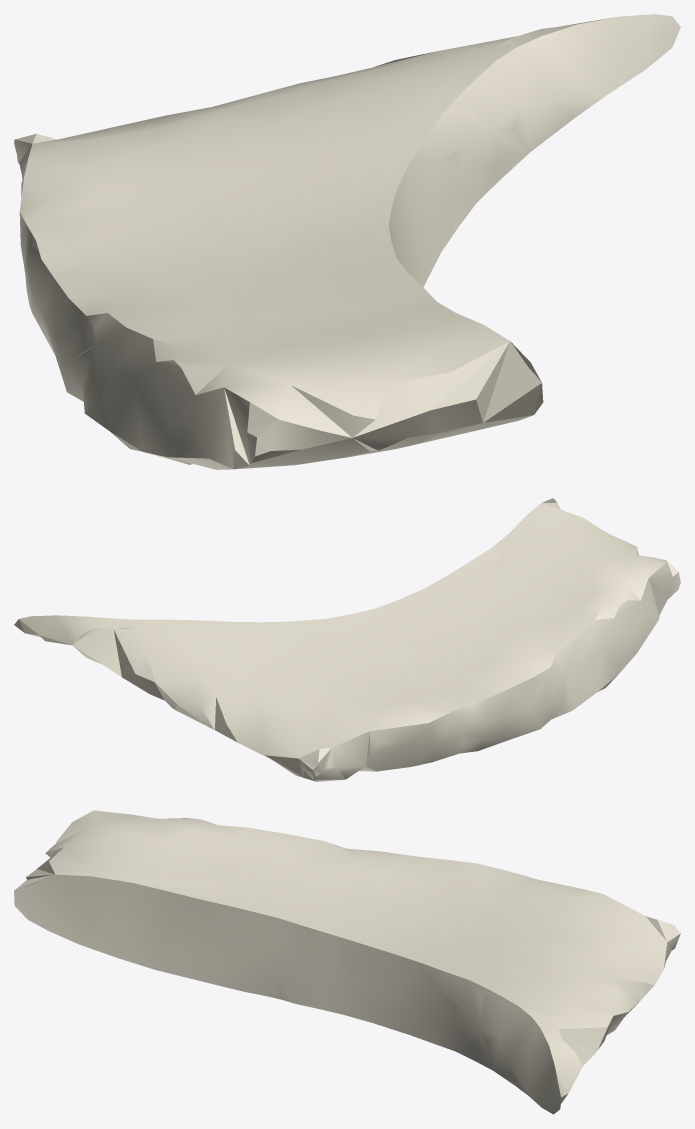
File: fma38902_mm1574.glb
The picture shows the model from 3 angles, top to bottom: view 1: azimuth 30°, elevation 25°; view 2: azimuth 150°, elevation 25°; view 3: azimuth 270°, elevation 25°; orthographic projection. The views are drawn at different scales.
Parts seen in each view (by area): view 1: FMA38902_MM1574; view 2: FMA38902_MM1574; view 3: FMA38902_MM1574.
Part boxes in pixels (<box>): FMA38902_MM1574: <box>14,14,680,469</box>; FMA38902_MM1574: <box>14,498,680,781</box>; FMA38902_MM1574: <box>14,810,680,1114</box>.
Bounding box in the file's own units: 0.00916 × 0.00187 × 0.00956.
